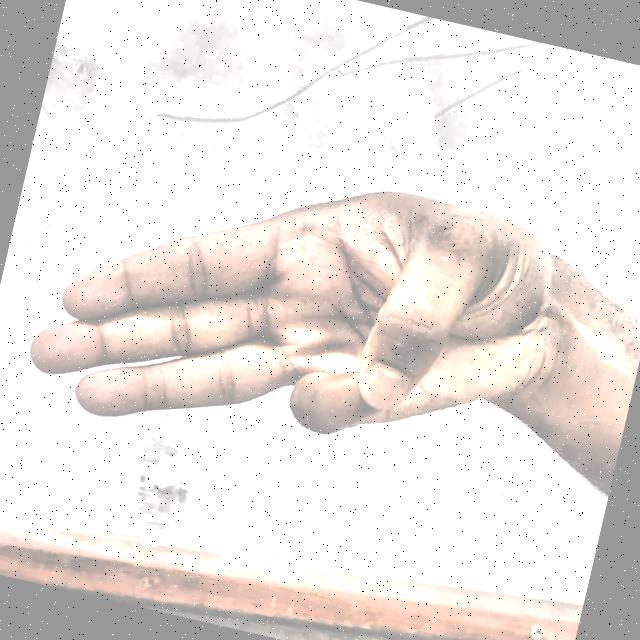Ma: (2, 101, 628, 555)
